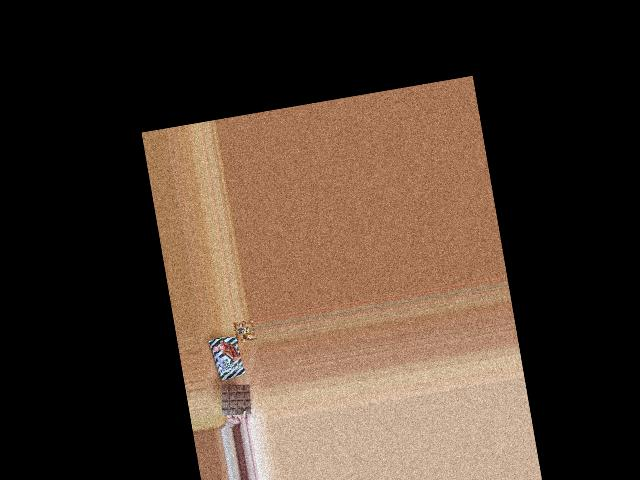chocolate: (208, 332, 244, 383)
